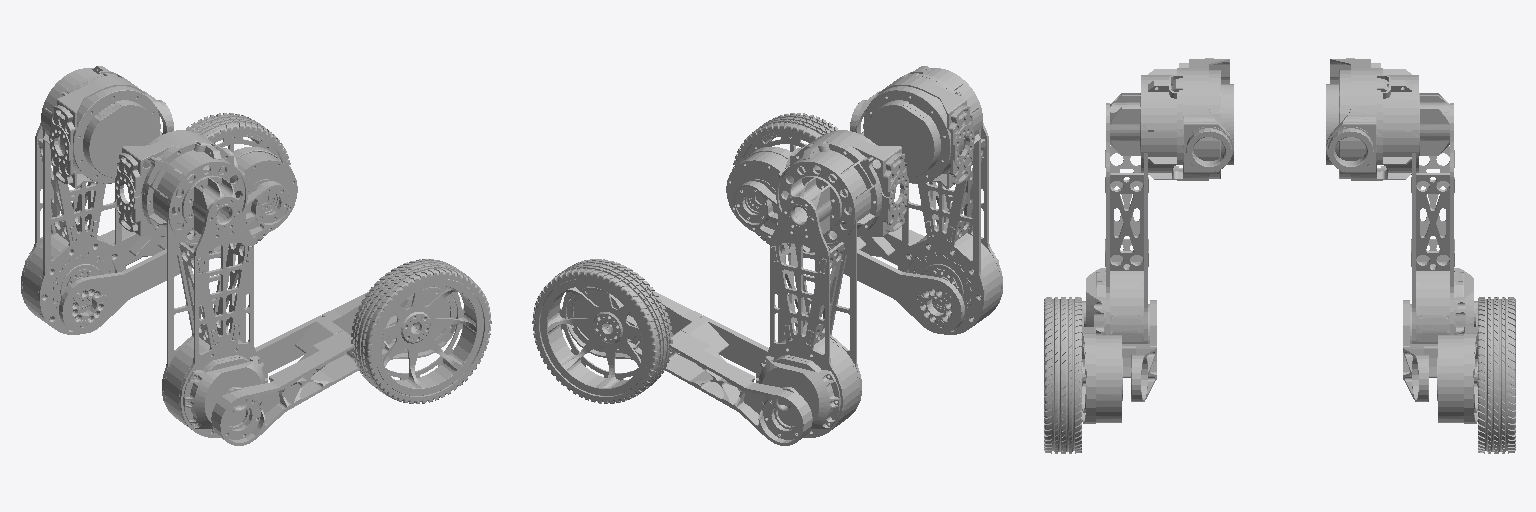
robot.urdf — wl2_description:
<?xml version="1.0" ?>
<!-- =================================================================================== -->
<!-- |    This document was autogenerated by xacro from src/robot_descriptions/wl2_description/xacro/robot.xacro | -->
<!-- |    EDITING THIS FILE BY HAND IS NOT RECOMMENDED                                 | -->
<!-- =================================================================================== -->
<robot name="wl2_description">
  <link name="base_link">
    <visual>
      <origin rpy="0 0 0" xyz="0 0 0"/>
      <geometry>
        <box size="0.001 0.001 0.001"/>
      </geometry>
    </visual>
    <inertial>
      <mass value="0.001"/>
      <origin rpy="0 0 0" xyz="0 0 0"/>
      <inertia ixx="0.0001" ixy="0" ixz="0" iyy="0.0001" iyz="0" izz="0.0001"/>
    </inertial>
  </link>
  <link name="F_base_link">
    <inertial>
      <origin rpy="0 0 0" xyz="0.023013 -0.0021227 -0.019381"/>
      <mass value="12.648"/>
      <inertia ixx="0.029515" ixy="2.3402E-05" ixz="-0.00071897" iyy="0.050606" iyz="1.123E-06" izz="0.056417"/>
    </inertial>
    <visual>
      <origin rpy="0 0 0" xyz="0 0 0"/>
      <geometry>
        <mesh filename="../meshes/single_base_link.STL"/>
      </geometry>
      <material name="">
        <color rgba="0.75294 0.75294 0.75294 1"/>
      </material>
    </visual>
    <collision>
      <origin rpy="0 0 0" xyz="0 0 0"/>
      <geometry>
        <box size="0.375 0.15 0.19"/>
      </geometry>
    </collision>
    <collision>
      <origin rpy="0 0 0" xyz="0 0 -0.12"/>
      <geometry>
        <box size="0.31 0.12 0.04"/>
      </geometry>
    </collision>
  </link>
  <joint name="F_base_joint" type="fixed">
    <origin rpy="0 0 0" xyz="0 0 0"/>
    <parent link="base_link"/>
    <child link="F_base_link"/>
    <axis xyz="0 0 0"/>
  </joint>
  <link name="FL_hip">
    <inertial>
      <origin rpy="0 0 0" xyz="-0.014145 6.1243E-05 0.0053964"/>
      <mass value="1.6985"/>
      <inertia ixx="0.003158" ixy="-1.3834E-07" ixz="5.9868E-05" iyy="0.0020304" iyz="-1.5293E-06" izz="0.0017725"/>
    </inertial>
    <visual>
      <origin rpy="0 0 0" xyz="0 0 0"/>
      <geometry>
        <mesh filename="../meshes/L_hip.STL"/>
      </geometry>
      <material name="">
        <color rgba="0.75294 0.75294 0.75294 1"/>
      </material>
    </visual>
  </link>
  <joint name="FL_hip_joint" type="revolute">
    <origin rpy="1.5708 0 1.5708" xyz="0 0.0775 0"/>
    <parent link="F_base_link"/>
    <child link="FL_hip"/>
    <axis xyz="0 0 1"/>
    <dynamics damping="0" friction="0"/>
    <limit effort="60" lower="-0.7853981633974483" upper="0.7853981633974483" velocity="20"/>
  </joint>
  <link name="FL_thigh">
    <inertial>
      <origin rpy="0 0 0" xyz="0.035356 0.0049257 -0.024803"/>
      <mass value="3.2263"/>
      <inertia ixx="0.0034304" ixy="-0.00055998" ixz="9.4057E-07" iyy="0.012162" iyz="2.6278E-06" izz="0.01465"/>
    </inertial>
    <visual>
      <origin rpy="0 0 0" xyz="0 0 0"/>
      <geometry>
        <mesh filename="../meshes/L_thigh.STL"/>
      </geometry>
      <material name="">
        <color rgba="0.75294 0.75294 0.75294 1"/>
      </material>
    </visual>
    <collision>
      <origin rpy="0 0 0.262" xyz="0.05 0 0"/>
      <geometry>
        <box size="0.21 0.11 0.05"/>
      </geometry>
    </collision>
  </link>
  <joint name="FL_thigh_joint" type="revolute">
    <origin rpy="-1.5708 0 -1.5708" xyz="0.09 0 0"/>
    <parent link="FL_hip"/>
    <child link="FL_thigh"/>
    <axis xyz="0 0 1"/>
    <dynamics damping="0" friction="0"/>
    <limit effort="60" lower="-1.5707963267948966" upper="3.141592653589793" velocity="20"/>
  </joint>
  <link name="FL_calf">
    <inertial>
      <origin rpy="0 0 0" xyz="0.11782 0.0051831 0.012648"/>
      <mass value="0.48008"/>
      <inertia ixx="0.00028596" ixy="0.00014991" ixz="-0.00047417" iyy="0.0044518" iyz="1.8592E-05" izz="0.0045218"/>
    </inertial>
    <visual>
      <origin rpy="0 0 0" xyz="0 0 0"/>
      <geometry>
        <mesh filename="../meshes/L_calf.STL"/>
      </geometry>
      <material name="">
        <color rgba="0.75294 0.75294 0.75294 1"/>
      </material>
    </visual>
    <collision>
      <origin rpy="0 0 -0.08" xyz="0.12 0 0"/>
      <geometry>
        <box size="0.3 0.05 0.02"/>
      </geometry>
    </collision>
  </link>
  <joint name="FL_calf_joint" type="revolute">
    <origin rpy="0 0 0" xyz="0.25 0 0"/>
    <parent link="FL_thigh"/>
    <child link="FL_calf"/>
    <axis xyz="0 0 1"/>
    <dynamics damping="0" friction="0"/>
    <limit effort="60" lower="-2.775" upper="-0.855" velocity="20"/>
  </joint>
  <link name="FL_foot">
    <inertial>
      <origin rpy="0 0 0" xyz="-1.1947E-05 -1.9864E-05 -0.0036281"/>
      <mass value="1.5215"/>
      <inertia ixx="0.0022259" ixy="-1.4306E-07" ixz="-4.8216E-07" iyy="0.0022261" iyz="-6.5528E-07" izz="0.0041464"/>
    </inertial>
    <visual>
      <origin rpy="0 0 0" xyz="0 0 0"/>
      <geometry>
        <mesh filename="../meshes/L_foot.STL"/>
      </geometry>
      <material name="">
        <color rgba="0.75294 0.75294 0.75294 1"/>
      </material>
    </visual>
    <collision>
      <origin rpy="0 0 0" xyz="0 0 0"/>
      <geometry>
        <cylinder length="0.04" radius="0.085"/>
      </geometry>
    </collision>
  </link>
  <joint name="FL_foot_joint" type="revolute">
    <origin rpy="0 0 0" xyz="0.25 0 0.06935"/>
    <parent link="FL_calf"/>
    <child link="FL_foot"/>
    <axis xyz="0 0 1"/>
    <dynamics damping="0" friction="0"/>
    <limit effort="12" lower="-1000000.0" upper="1000000.0" velocity="12.5"/>
  </joint>
  <link name="FR_hip">
    <inertial>
      <origin rpy="0 0 0" xyz="0.014145 6.1222E-05 0.0053964"/>
      <mass value="1.6985"/>
      <inertia ixx="0.003158" ixy="1.3916E-07" ixz="-5.9867E-05" iyy="0.0020304" iyz="-1.5281E-06" izz="0.0017725"/>
    </inertial>
    <visual>
      <origin rpy="0 0 0" xyz="0 0 0"/>
      <geometry>
        <mesh filename="../meshes/R_hip.STL"/>
      </geometry>
      <material name="">
        <color rgba="0.75294 0.75294 0.75294 1"/>
      </material>
    </visual>
  </link>
  <joint name="FR_hip_joint" type="revolute">
    <origin rpy="1.5708 0 1.5708" xyz="0 -0.0775 0"/>
    <parent link="F_base_link"/>
    <child link="FR_hip"/>
    <axis xyz="0 0 1"/>
    <dynamics damping="0" friction="0"/>
    <limit effort="60" lower="-0.7853981633974483" upper="0.7853981633974483" velocity="20"/>
  </joint>
  <link name="FR_thigh">
    <inertial>
      <origin rpy="0 0 0" xyz="0.035356 0.0049257 0.024803"/>
      <mass value="3.2263"/>
      <inertia ixx="0.0034304" ixy="-0.00055998" ixz="-9.4198E-07" iyy="0.012162" iyz="-2.6258E-06" izz="0.01465"/>
    </inertial>
    <visual>
      <origin rpy="0 0 0" xyz="0 0 0"/>
      <geometry>
        <mesh filename="../meshes/R_thigh.STL"/>
      </geometry>
      <material name="">
        <color rgba="0.75294 0.75294 0.75294 1"/>
      </material>
    </visual>
    <collision>
      <origin rpy="0 0 0.262" xyz="0.05 0 0"/>
      <geometry>
        <box size="0.21 0.11 0.05"/>
      </geometry>
    </collision>
  </link>
  <joint name="FR_thigh_joint" type="revolute">
    <origin rpy="-1.5708 0 -1.5708" xyz="-0.09 0 0"/>
    <parent link="FR_hip"/>
    <child link="FR_thigh"/>
    <axis xyz="0 0 1"/>
    <dynamics damping="0" friction="0"/>
    <limit effort="60" lower="-1.5707963267948966" upper="3.141592653589793" velocity="20"/>
  </joint>
  <link name="FR_calf">
    <inertial>
      <origin rpy="0 0 0" xyz="0.11782 0.0051831 -0.012648"/>
      <mass value="0.48008"/>
      <inertia ixx="0.00028596" ixy="0.00014991" ixz="0.00047417" iyy="0.0044518" iyz="-1.8592E-05" izz="0.0045218"/>
    </inertial>
    <visual>
      <origin rpy="0 0 0" xyz="0 0 0"/>
      <geometry>
        <mesh filename="../meshes/R_calf.STL"/>
      </geometry>
      <material name="">
        <color rgba="0.75294 0.75294 0.75294 1"/>
      </material>
    </visual>
    <collision>
      <origin rpy="0 0 -0.08" xyz="0.12 0 0"/>
      <geometry>
        <box size="0.3 0.05 0.02"/>
      </geometry>
    </collision>
  </link>
  <joint name="FR_calf_joint" type="revolute">
    <origin rpy="0 0 0" xyz="0.25 0 0"/>
    <parent link="FR_thigh"/>
    <child link="FR_calf"/>
    <axis xyz="0 0 1"/>
    <dynamics damping="0" friction="0"/>
    <limit effort="60" lower="-2.775" upper="-0.855" velocity="20"/>
  </joint>
  <link name="FR_foot">
    <inertial>
      <origin rpy="0 0 0" xyz="-1.1939E-05 -1.986E-05 0.0036281"/>
      <mass value="1.5215"/>
      <inertia ixx="0.0022259" ixy="-1.4321E-07" ixz="4.8221E-07" iyy="0.0022261" iyz="6.5536E-07" izz="0.0041463"/>
    </inertial>
    <visual>
      <origin rpy="0 0 0" xyz="0 0 0"/>
      <geometry>
        <mesh filename="../meshes/R_foot.STL"/>
      </geometry>
      <material name="">
        <color rgba="0.75294 0.75294 0.75294 1"/>
      </material>
    </visual>
    <collision>
      <origin rpy="0 0 0" xyz="0 0 0"/>
      <geometry>
        <cylinder length="0.04" radius="0.085"/>
      </geometry>
    </collision>
  </link>
  <joint name="FR_foot_joint" type="revolute">
    <origin rpy="0 0 0" xyz="0.25 0 -0.06935"/>
    <parent link="FR_calf"/>
    <child link="FR_foot"/>
    <axis xyz="0 0 1"/>
    <dynamics damping="0" friction="0"/>
    <limit effort="12" lower="-1000000.0" upper="1000000.0" velocity="12.5"/>
  </joint>
</robot>

--- What the picture shows (computed from the rendered views, not written in the file) ---
The picture shows the robot from 3 angles, left to right: view 1: azimuth 30°, elevation 25°; view 2: azimuth 150°, elevation 25°; view 3: azimuth 270°, elevation 25°; orthographic projection.
Robot: wl2_description — 10 links, 9 joints (8 revolute, 1 fixed); root link base_link; default pose: all joints at 0 but 2 set to mid-range because 0 is outside their limits (FL_calf_joint = -1.81, FR_calf_joint = -1.81).
Links seen in each view (by area): view 1: FR_thigh, FR_foot, FR_calf, FL_hip, FL_thigh, FL_calf, FR_hip, FL_foot; view 2: FL_thigh, FL_foot, FL_calf, FR_hip, FR_thigh, FR_calf, FL_hip, FR_foot; view 3: FL_thigh, FR_thigh, FL_hip, FR_hip, FL_foot, FR_foot, FL_calf, FR_calf.
Link boxes in pixels (left/top/right/bottom): FR_thigh: left=162, top=163, right=267, bottom=437; FR_foot: left=351, top=259, right=491, bottom=403; FR_calf: left=211, top=286, right=459, bottom=445; FL_hip: left=41, top=66, right=173, bottom=188; FL_thigh: left=21, top=123, right=125, bottom=334; FL_calf: left=59, top=147, right=297, bottom=333; FR_hip: left=115, top=130, right=247, bottom=247; FL_foot: left=186, top=113, right=291, bottom=257; FL_thigh: left=756, top=163, right=861, bottom=437; FL_foot: left=532, top=259, right=672, bottom=403; FL_calf: left=564, top=286, right=812, bottom=445; FR_hip: left=850, top=66, right=982, bottom=188; FR_thigh: left=898, top=123, right=1002, bottom=334; FR_calf: left=726, top=147, right=964, bottom=333; FL_hip: left=776, top=130, right=908, bottom=247; FR_foot: left=732, top=113, right=837, bottom=257; FL_thigh: left=1411, top=93, right=1477, bottom=343; FR_thigh: left=1082, top=93, right=1148, bottom=343; FL_hip: left=1326, top=58, right=1418, bottom=180; FR_hip: left=1141, top=58, right=1233, bottom=180; FL_foot: left=1474, top=297, right=1515, bottom=453; FR_foot: left=1044, top=297, right=1085, bottom=453; FL_calf: left=1403, top=300, right=1477, bottom=423; FR_calf: left=1082, top=300, right=1156, bottom=423.
Bounding box of the posed robot: 0.4001 × 0.5152 × 0.352 m (x, y, z).
Meshes: 9 distinct files referenced, 8 mesh visuals loaded (8 binary STL); not drawn: 1 (reference not matched to a file when rendering).
